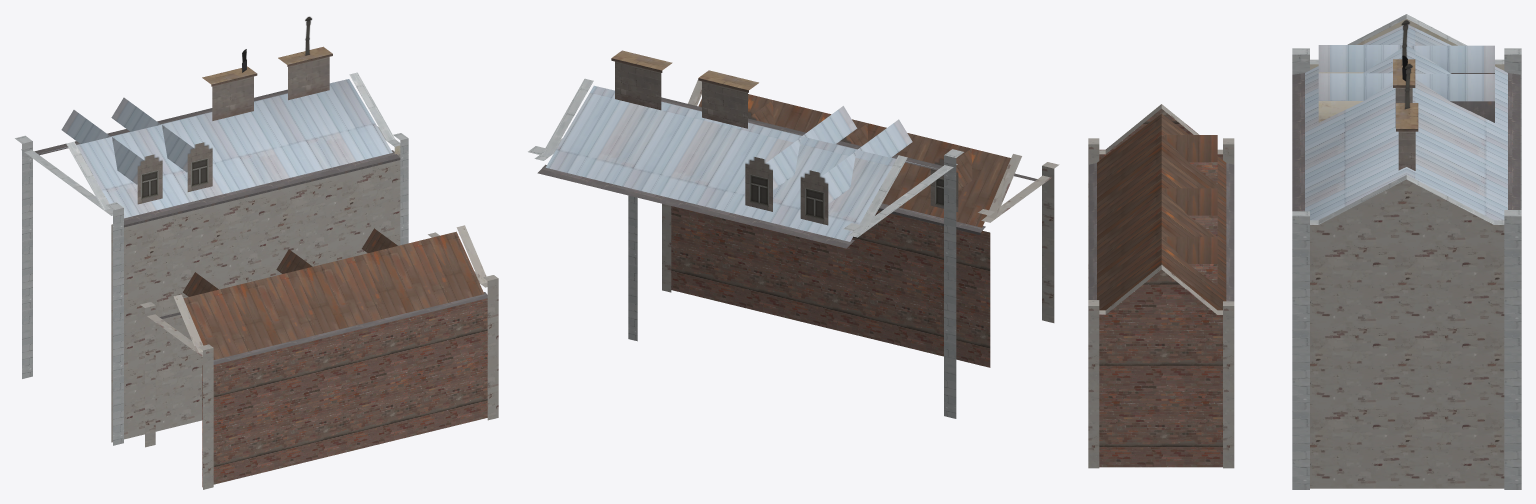
3 views of the same model, side by side, from view 1: azimuth 30°, elevation 25°; view 2: azimuth 150°, elevation 25°; view 3: azimuth 270°, elevation 25° (orthographic). The views are drawn at different scales.
Parts seen in each view (by area): view 1: body0_model0_lod0_mesh0, body0_model0_lod0_mesh5, body0_model0_lod0_mesh6, body0_model0_lod0_mesh1, body0_model0_lod0_mesh7, body0_model0_lod0_mesh2, body0_model0_lod0_mesh3, body0_model0_lod0_mesh9, body0_model0_lod0_mesh4; view 2: body0_model0_lod0_mesh0, body0_model0_lod0_mesh6, body0_model0_lod0_mesh1, body0_model0_lod0_mesh7, body0_model0_lod0_mesh9, body0_model0_lod0_mesh2, body0_model0_lod0_mesh3, body0_model0_lod0_mesh4; view 3: body0_model0_lod0_mesh5, body0_model0_lod0_mesh6, body0_model0_lod0_mesh0, body0_model0_lod0_mesh1, body0_model0_lod0_mesh7, body0_model0_lod0_mesh3, body0_model0_lod0_mesh2, body0_model0_lod0_mesh9, body0_model0_lod0_mesh8.
Boxes of the visible parts, x1,y1,x2,y2 form: body0_model0_lod0_mesh0: (202, 298, 487, 487); body0_model0_lod0_mesh5: (111, 154, 400, 442); body0_model0_lod0_mesh6: (38, 79, 392, 218); body0_model0_lod0_mesh1: (183, 228, 484, 359); body0_model0_lod0_mesh7: (15, 72, 408, 445); body0_model0_lod0_mesh2: (140, 225, 498, 489); body0_model0_lod0_mesh3: (34, 89, 487, 364); body0_model0_lod0_mesh9: (202, 46, 332, 120); body0_model0_lod0_mesh4: (137, 142, 212, 204); body0_model0_lod0_mesh0: (671, 206, 990, 367); body0_model0_lod0_mesh6: (545, 85, 935, 241); body0_model0_lod0_mesh1: (698, 94, 1010, 227); body0_model0_lod0_mesh7: (528, 78, 963, 418); body0_model0_lod0_mesh9: (611, 50, 758, 128); body0_model0_lod0_mesh2: (662, 79, 1059, 322); body0_model0_lod0_mesh3: (537, 97, 1044, 248); body0_model0_lod0_mesh4: (745, 111, 958, 225); body0_model0_lod0_mesh5: (1310, 179, 1504, 488); body0_model0_lod0_mesh6: (1305, 24, 1507, 220); body0_model0_lod0_mesh0: (1099, 108, 1222, 467); body0_model0_lod0_mesh1: (1097, 114, 1226, 310); body0_model0_lod0_mesh7: (1292, 14, 1521, 489); body0_model0_lod0_mesh3: (1089, 73, 1520, 301); body0_model0_lod0_mesh2: (1088, 104, 1234, 468); body0_model0_lod0_mesh9: (1393, 59, 1418, 170); body0_model0_lod0_mesh8: (1310, 19, 1504, 122).
Bounding box in the file's own units: 71.5 × 76.65 × 77.5.
Materials: 12 (12 with a texture image).
